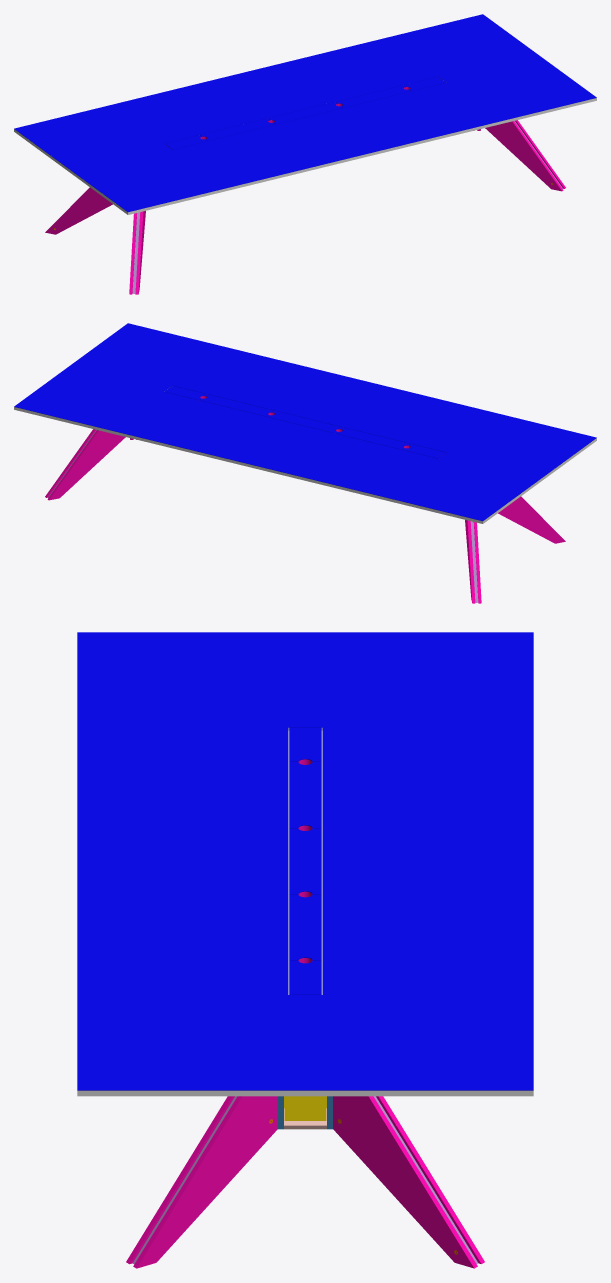
Rendered from 3D_projet.glb.
3 views of the same model, one above another, from view 1: azimuth 30°, elevation 25°; view 2: azimuth 150°, elevation 25°; view 3: azimuth 270°, elevation 25° (orthographic). The views are drawn at different scales.
Bounding box in the file's own units: 0.061 × 0.0121 × 0.0257.
